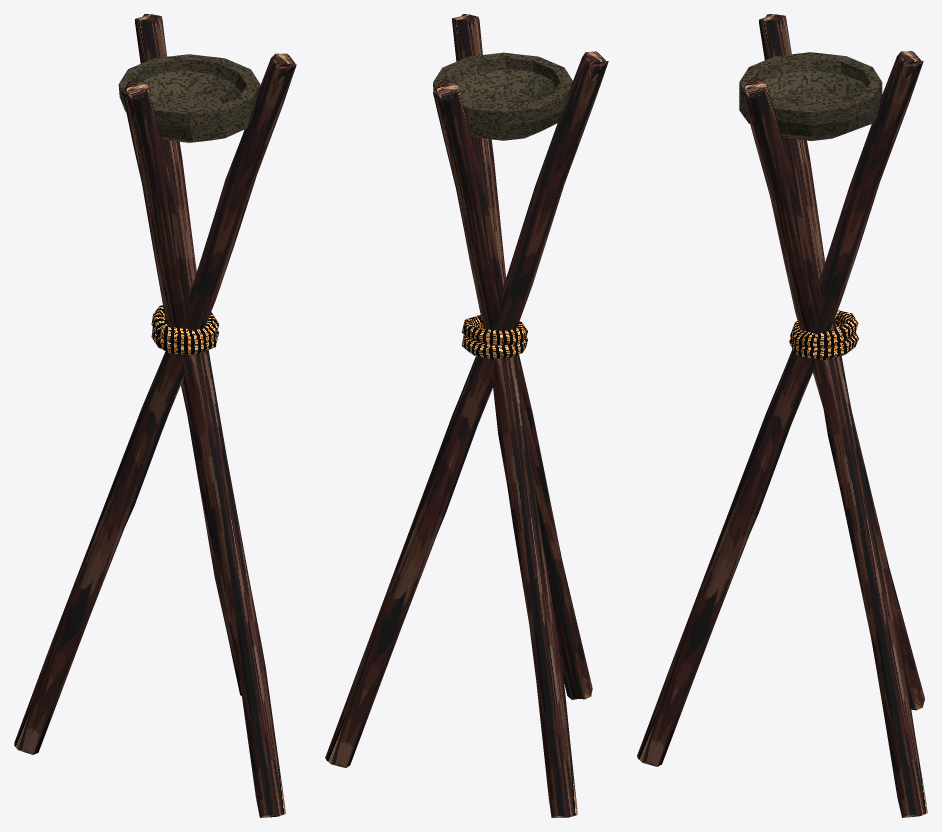
File: torch1.glb
The picture shows the model from 3 angles, left to right: view 1: azimuth 30°, elevation 25°; view 2: azimuth 150°, elevation 25°; view 3: azimuth 270°, elevation 25°; orthographic projection.
Parts seen in each view (by area): view 1: Cylinder; view 2: Cylinder; view 3: Cylinder.
Boxes of the visible parts, bbox=[...] form: Cylinder: bbox=[14, 14, 296, 817]; Cylinder: bbox=[325, 14, 608, 817]; Cylinder: bbox=[637, 14, 927, 817].
Bounding box in the file's own units: 1.09 × 2.96 × 1.1.
4 materials, 4 textured.
